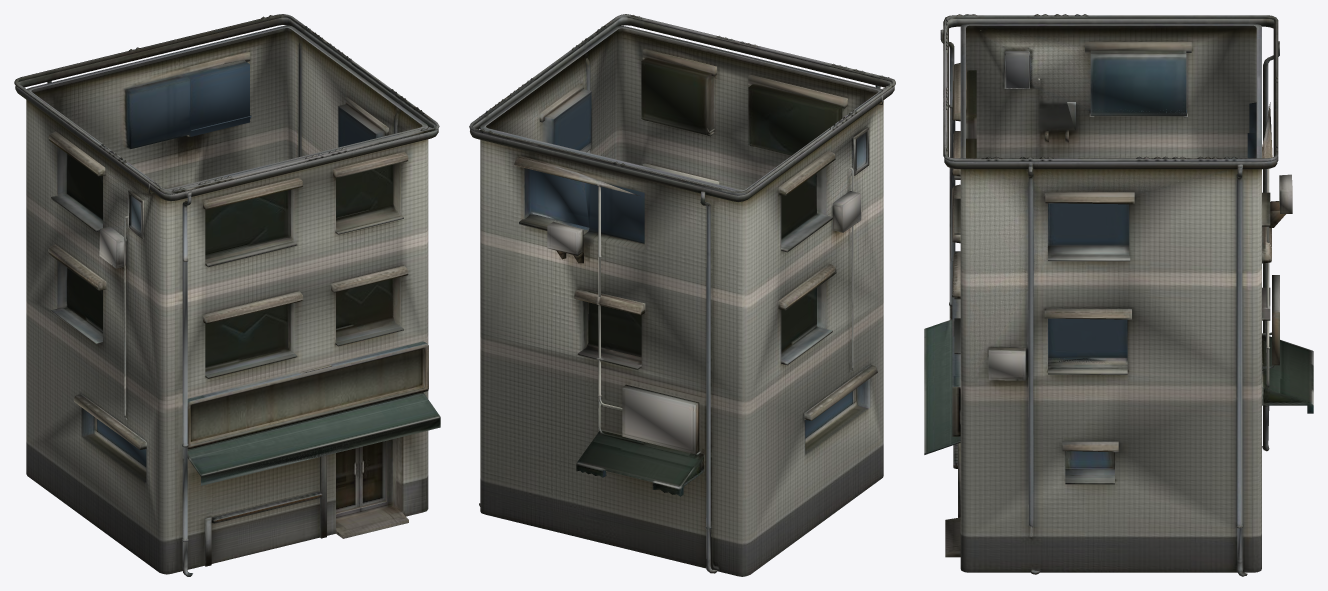
File: merchant-old-storefront.glb
3 views of the same model, side by side, from view 1: azimuth 30°, elevation 25°; view 2: azimuth 150°, elevation 25°; view 3: azimuth 270°, elevation 25° (orthographic). The views are drawn at different scales.
Parts seen in each view (by area): view 1: tripo_node_1d414768-396a-4486-bb15-0508e888125c; view 2: tripo_node_1d414768-396a-4486-bb15-0508e888125c; view 3: tripo_node_1d414768-396a-4486-bb15-0508e888125c.
Boxes of the visible parts, x1,y1,x2,y2 form: tripo_node_1d414768-396a-4486-bb15-0508e888125c: (14,14,440,576); tripo_node_1d414768-396a-4486-bb15-0508e888125c: (469,14,895,576); tripo_node_1d414768-396a-4486-bb15-0508e888125c: (924,14,1313,576).
Size of the model in its own units: 0.7676 by 0.998 by 0.8418.
Materials: 1 (1 with a texture image).
